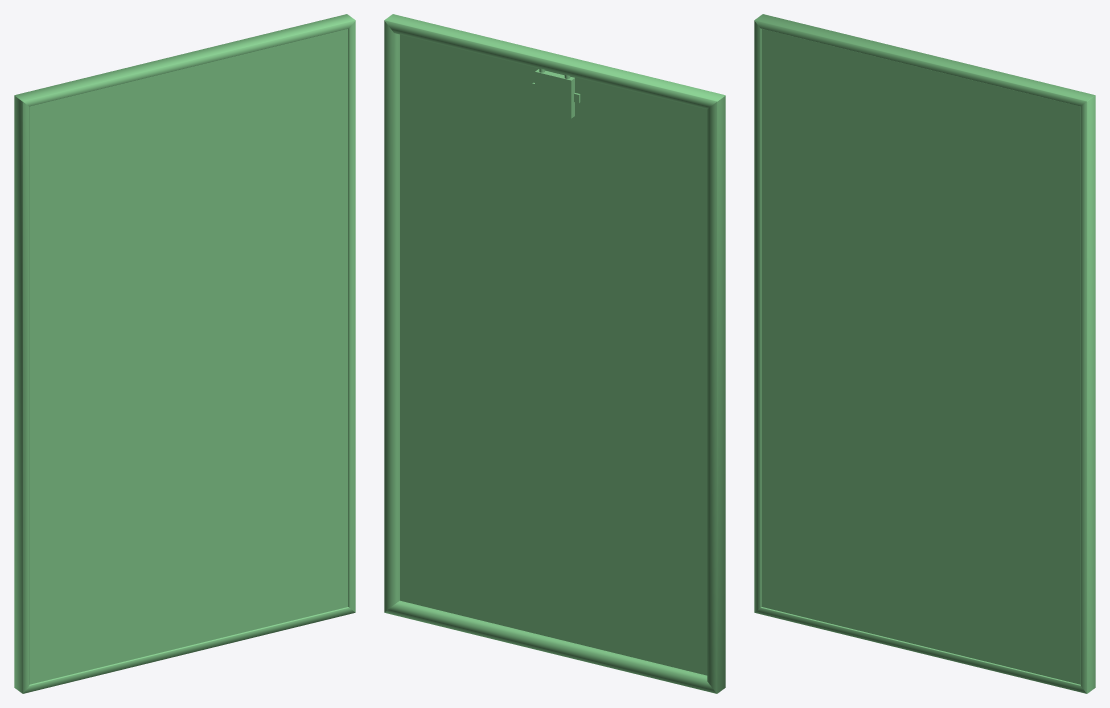
File: Panel.fbx
3 views of the same model, side by side, from view 1: azimuth 30°, elevation 25°; view 2: azimuth 150°, elevation 25°; view 3: azimuth 330°, elevation 25° (orthographic).
Parts seen in each view (by area): view 1: Panel_LOD0; view 2: Panel_LOD0; view 3: Panel_LOD0.
Boxes of the visible parts, box(x1,y1,x2,y2) form: Panel_LOD0: box(14, 14, 355, 693); Panel_LOD0: box(384, 14, 725, 693); Panel_LOD0: box(754, 14, 1095, 693).
Size of what is drawn, in the model's own units: 1 by 1.7 by 0.045.
